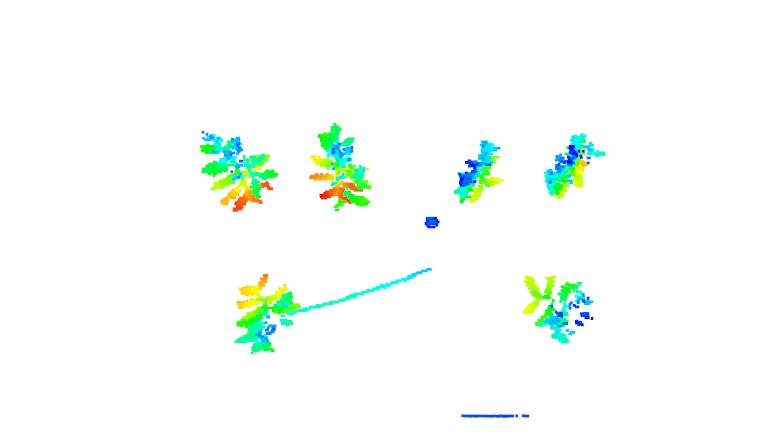chickpea: (199, 130, 277, 212), (308, 122, 376, 212), (521, 271, 598, 346), (234, 274, 300, 357), (542, 134, 608, 201), (455, 139, 506, 205)
